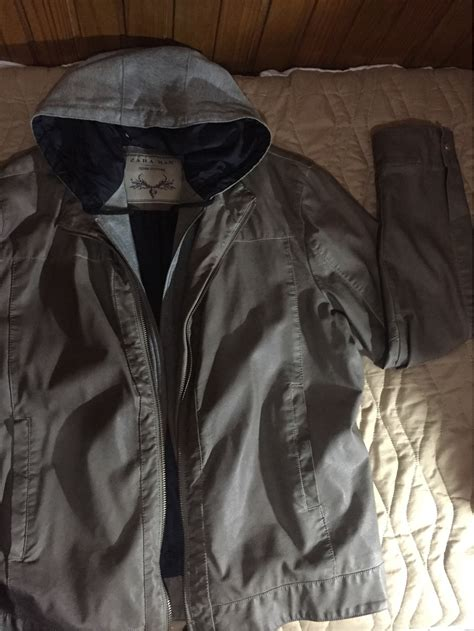cuero: (4, 117, 474, 631)
